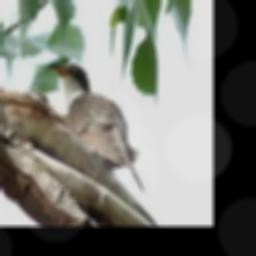Cuckoo: (48, 62, 144, 192)
